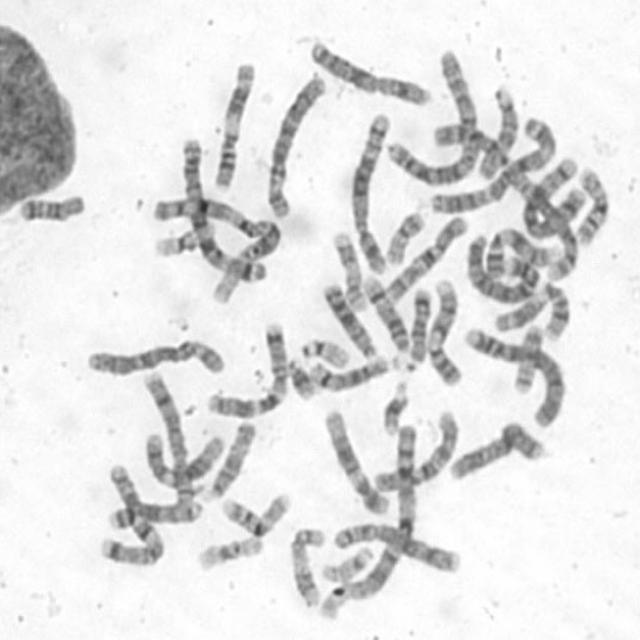A1: (314, 412, 422, 624), (149, 191, 285, 311)
A2: (432, 122, 581, 285), (384, 44, 483, 188)
A3: (422, 111, 560, 218), (178, 131, 272, 286)
B4: (461, 322, 566, 430), (461, 229, 541, 305)
B5: (346, 108, 393, 275), (520, 152, 586, 242)
C10: (380, 212, 470, 305), (370, 406, 460, 496)
C11: (209, 56, 258, 191), (489, 279, 574, 343)
C12: (320, 404, 393, 517), (141, 428, 226, 488)
C6: (262, 68, 329, 221), (82, 336, 230, 379)
C7: (203, 317, 291, 420), (94, 457, 167, 569)
C8: (140, 366, 198, 504), (332, 518, 461, 575)
C9: (478, 224, 561, 280), (424, 274, 464, 388)
D13: (320, 278, 380, 361), (107, 497, 204, 534)
D14: (360, 270, 412, 355), (306, 352, 396, 393)
D15: (197, 417, 259, 503), (473, 81, 522, 181)
E16: (215, 485, 294, 539), (570, 163, 610, 247)
E17: (286, 525, 326, 612), (328, 226, 368, 312)
E18: (14, 189, 88, 226), (402, 285, 434, 369)
F19: (193, 533, 265, 574), (151, 223, 202, 260)
F20: (380, 208, 428, 266), (510, 321, 545, 396)
G21: (379, 375, 410, 436), (283, 354, 318, 402)
G22: (320, 541, 376, 585), (298, 334, 351, 370)
X: (305, 34, 432, 108), (444, 416, 549, 484)
